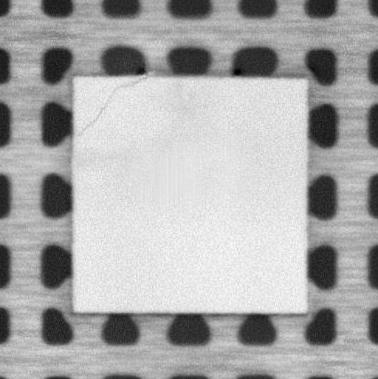DIE_CRACK: (78, 77, 144, 135)
